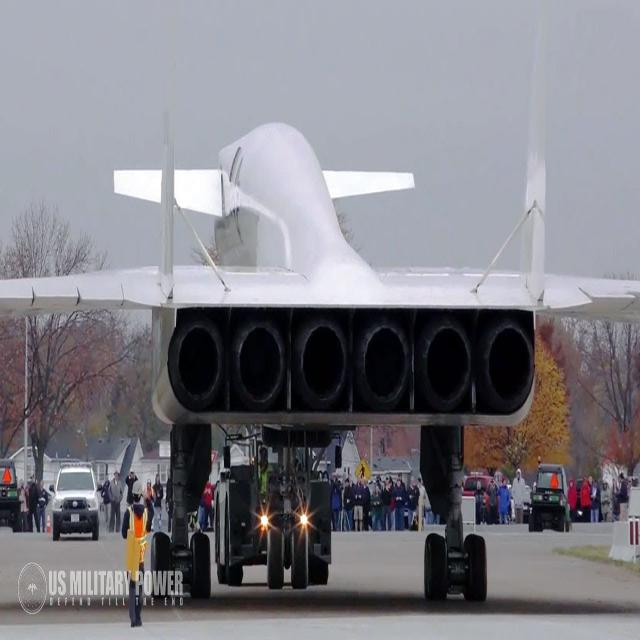MIL_Plane: (0, 1, 640, 603)
